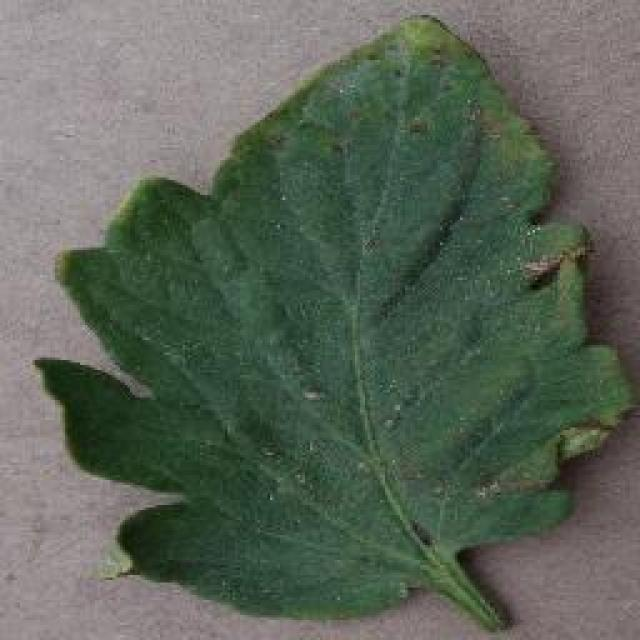Tom_Bacterial_spot: (322, 20, 522, 180), (312, 430, 562, 529)
